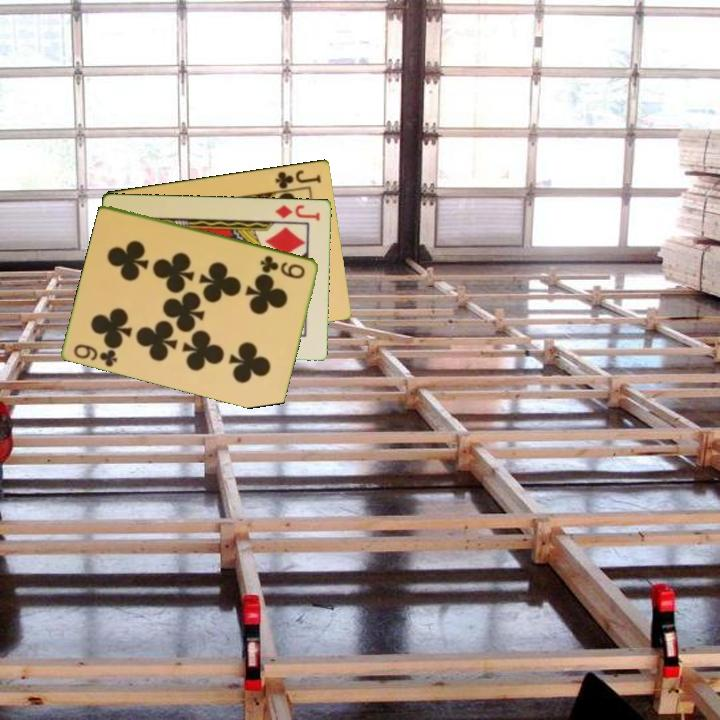9c: (257, 252, 308, 282), (70, 340, 121, 370)
Jc: (272, 166, 324, 191)
Jd: (272, 201, 323, 223)
